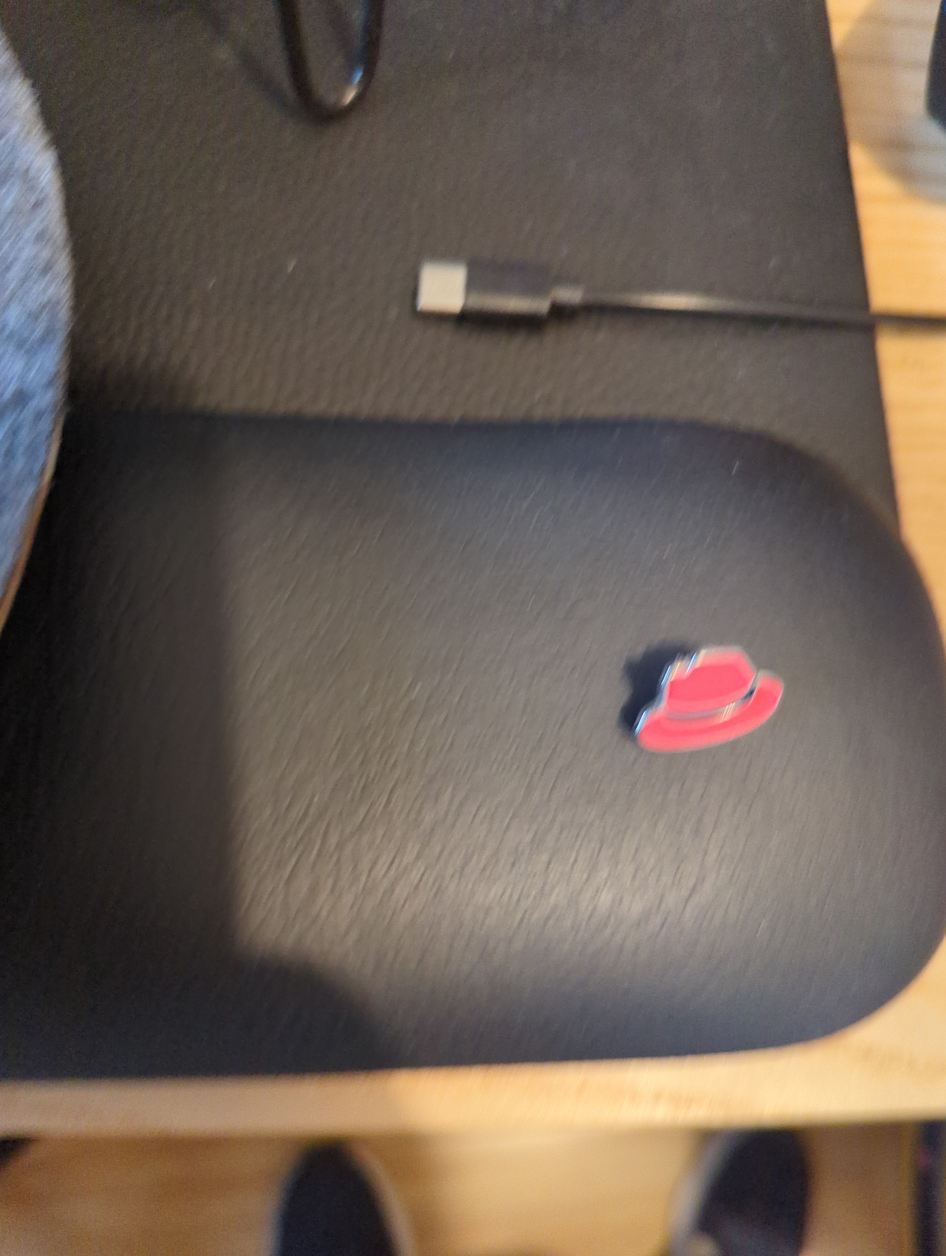Red-Hat: (561, 595, 863, 821)
